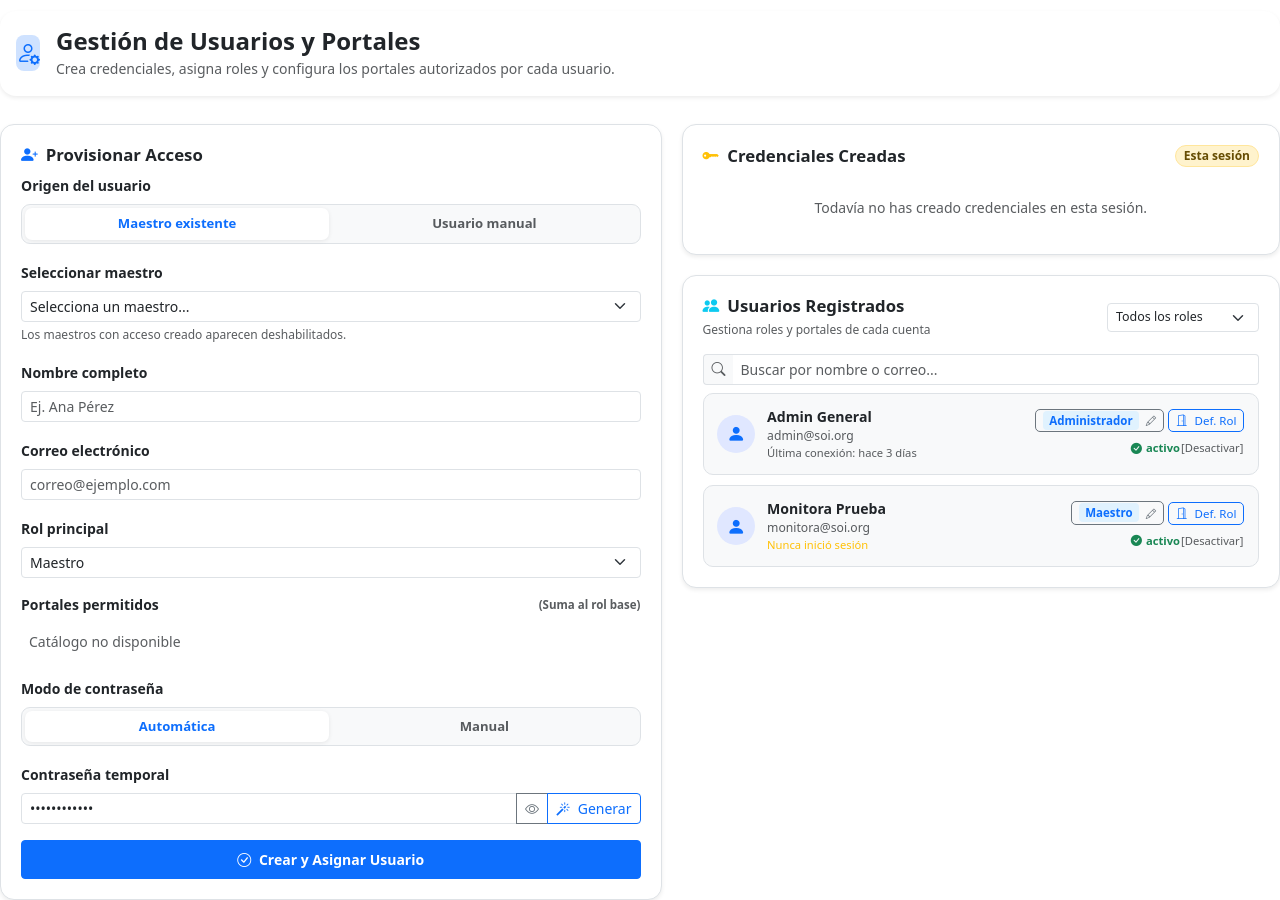
Test: gestionUsuariosView › modal Gestionar Usuario › asigna una contraseña nueva y la deja visible en Credenciales Creadas
This screenshot has width=1280, height=900.
Click the button "Maestro": click(1118, 513) [1071,501,1164,525]
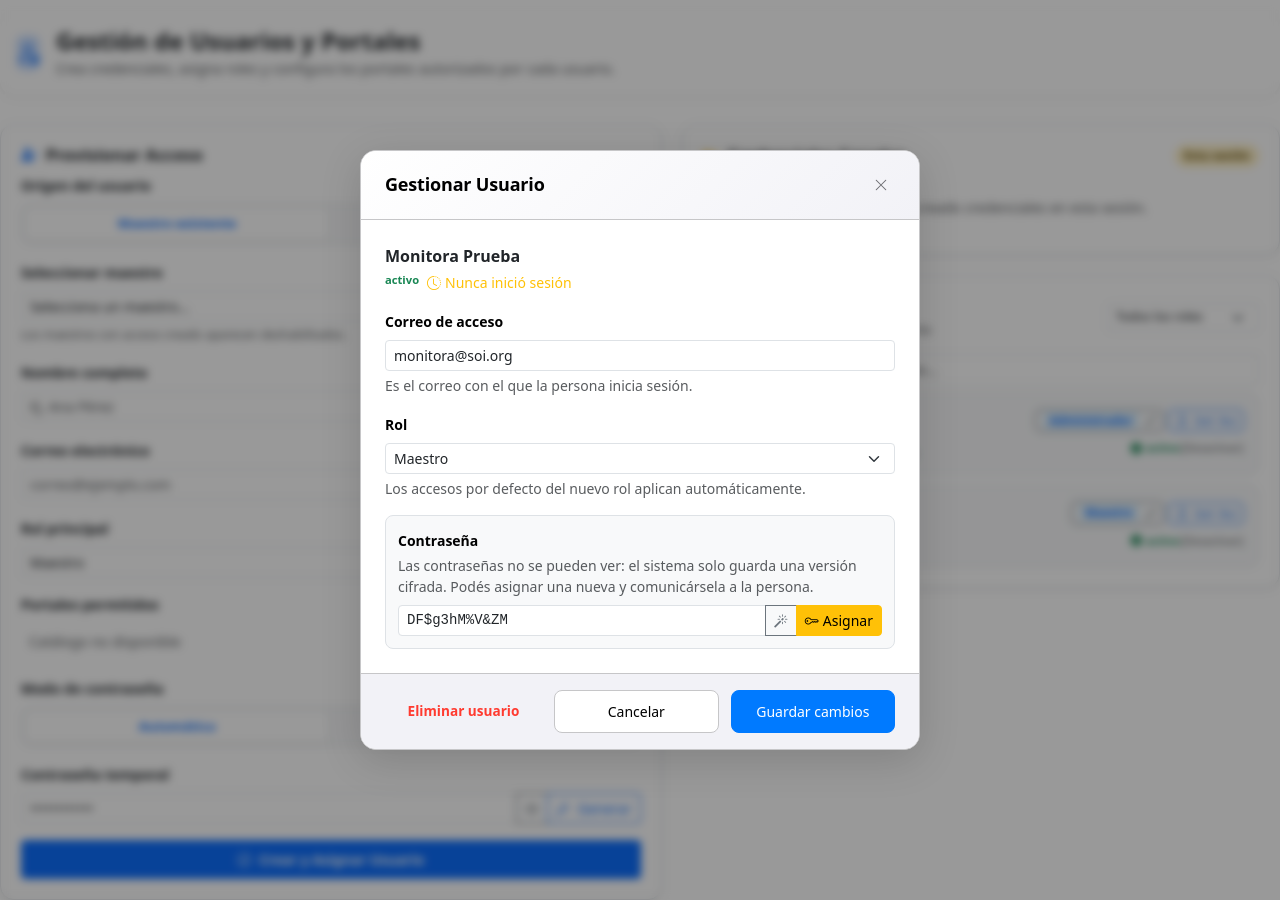
Replace the text in the field with id "gu-manage-password" with "Clave-Nueva-123": (582, 620) [398,605,766,636]
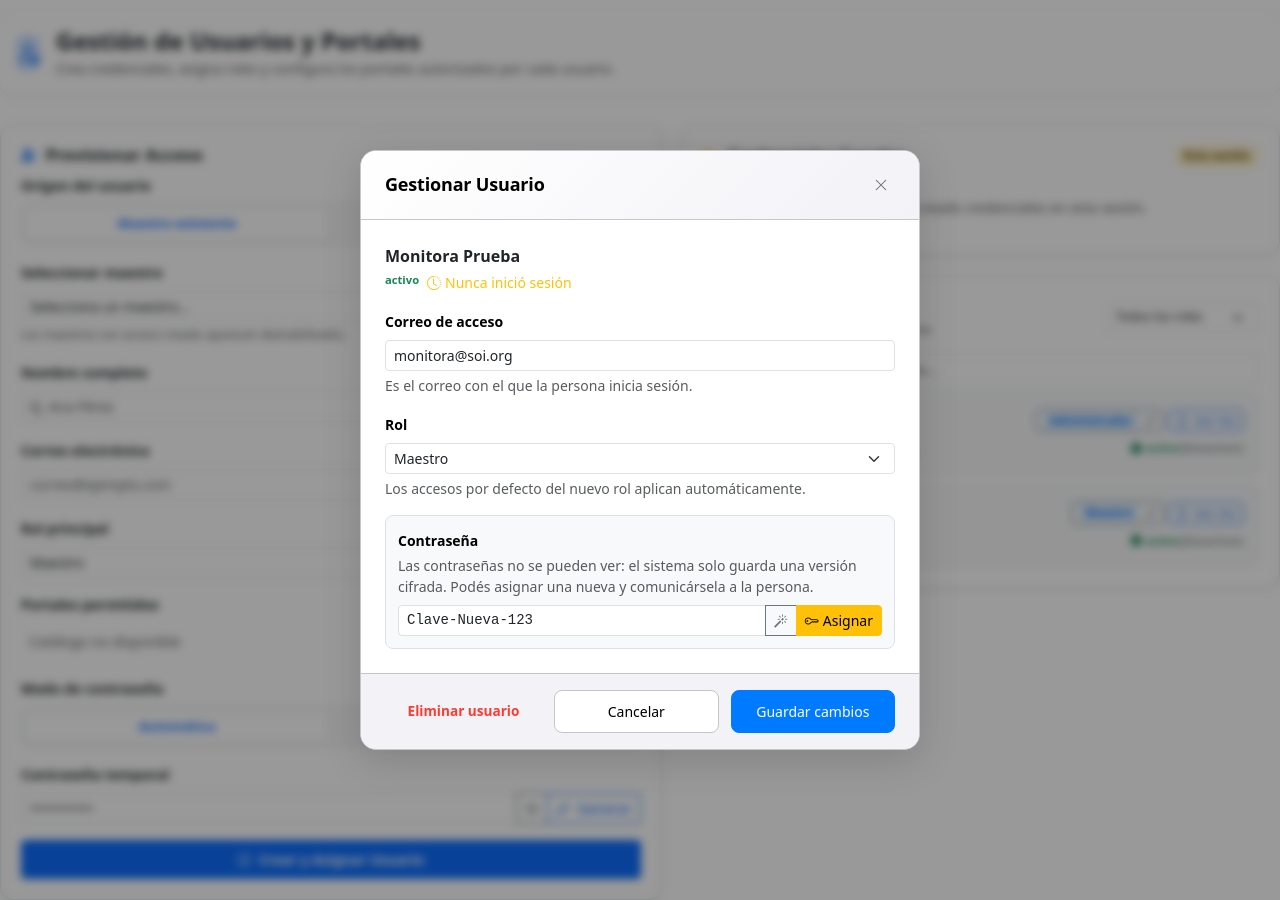
Click the button with id "gu-manage-reset": click(839, 620) [796,605,882,636]
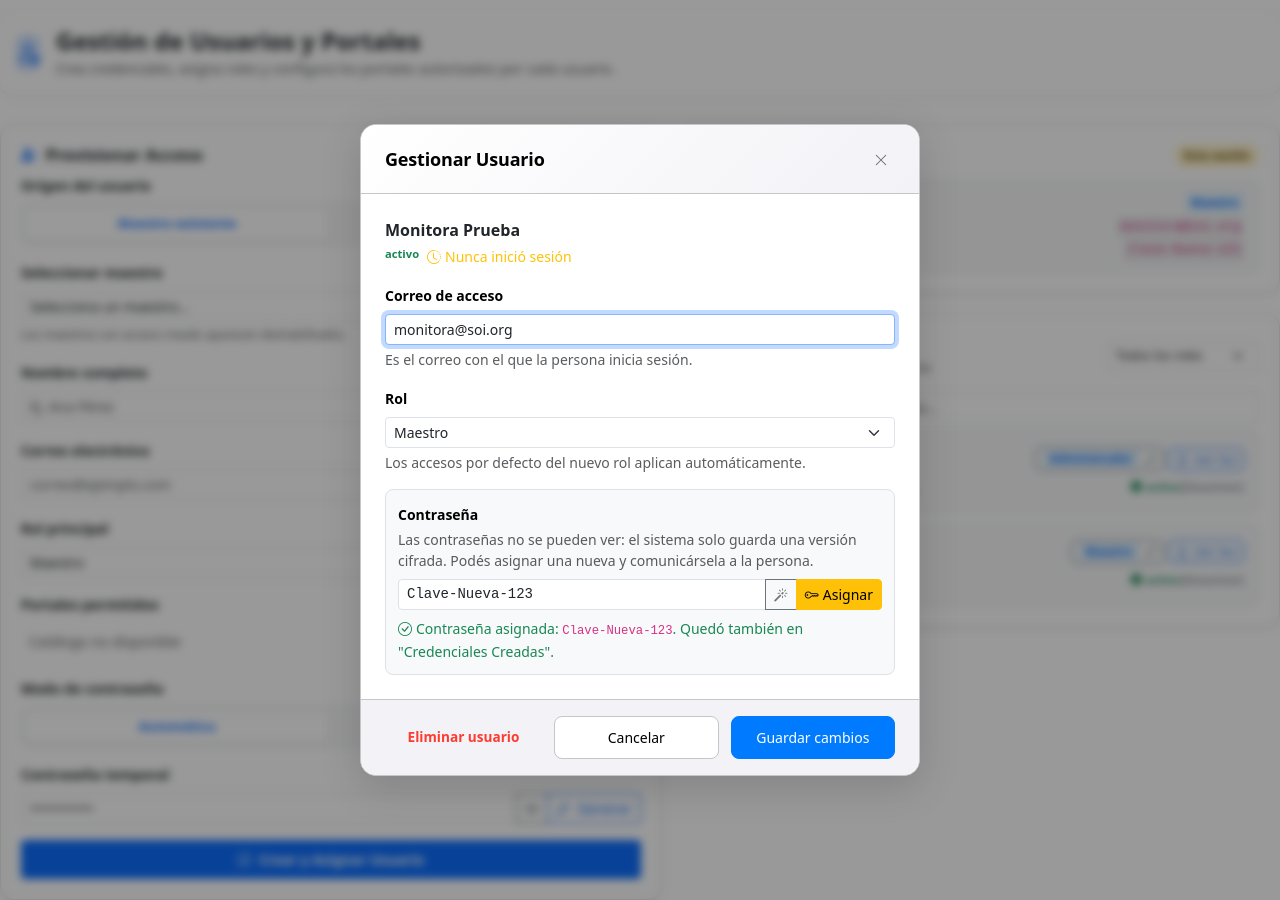
Expected: the element with id "gu-manage-reset-result" shows "Clave-Nueva-123", [562,624,673,638]
Expected: the element with id "gu-credenciales-list" shows "Clave-Nueva-123", [1128,243,1240,257]
